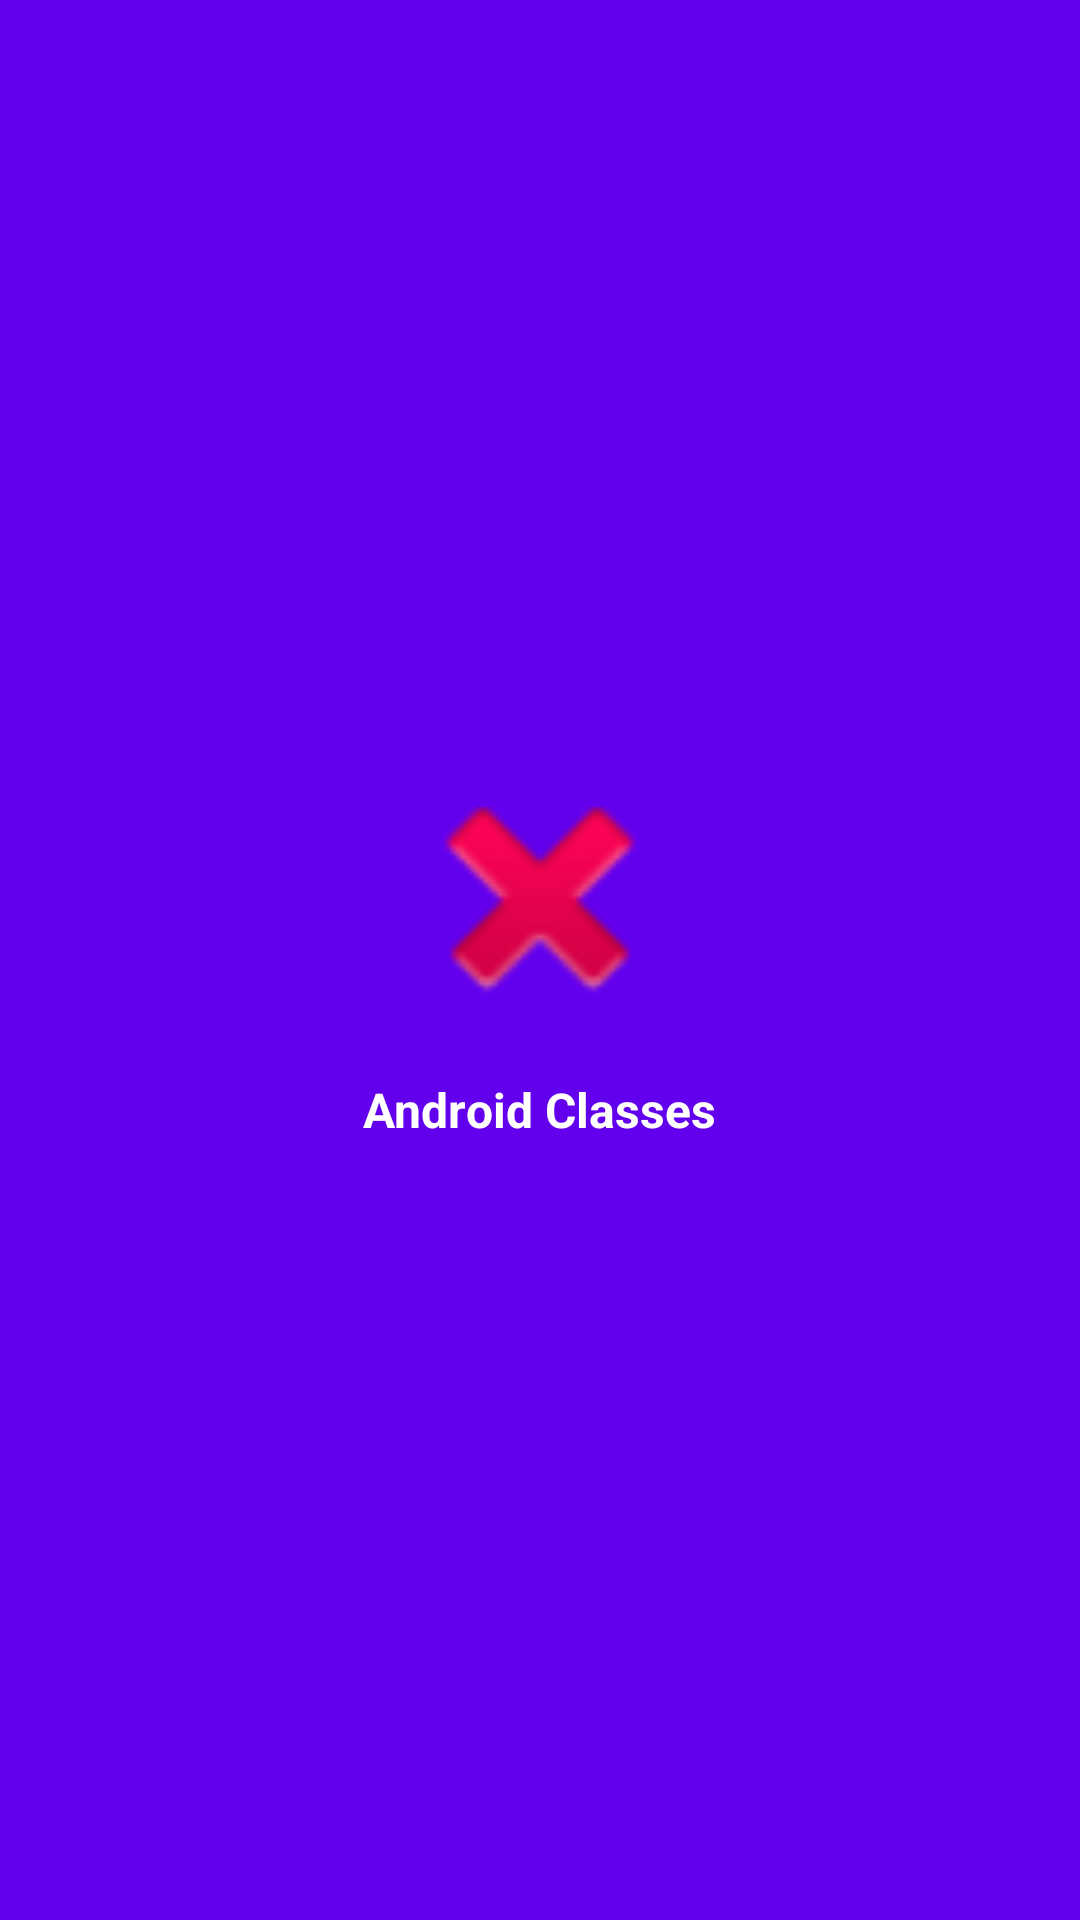

Screen size 1080×1920. Icon name, then its center in pixels as point (x, y):
delete: point (540, 898)
